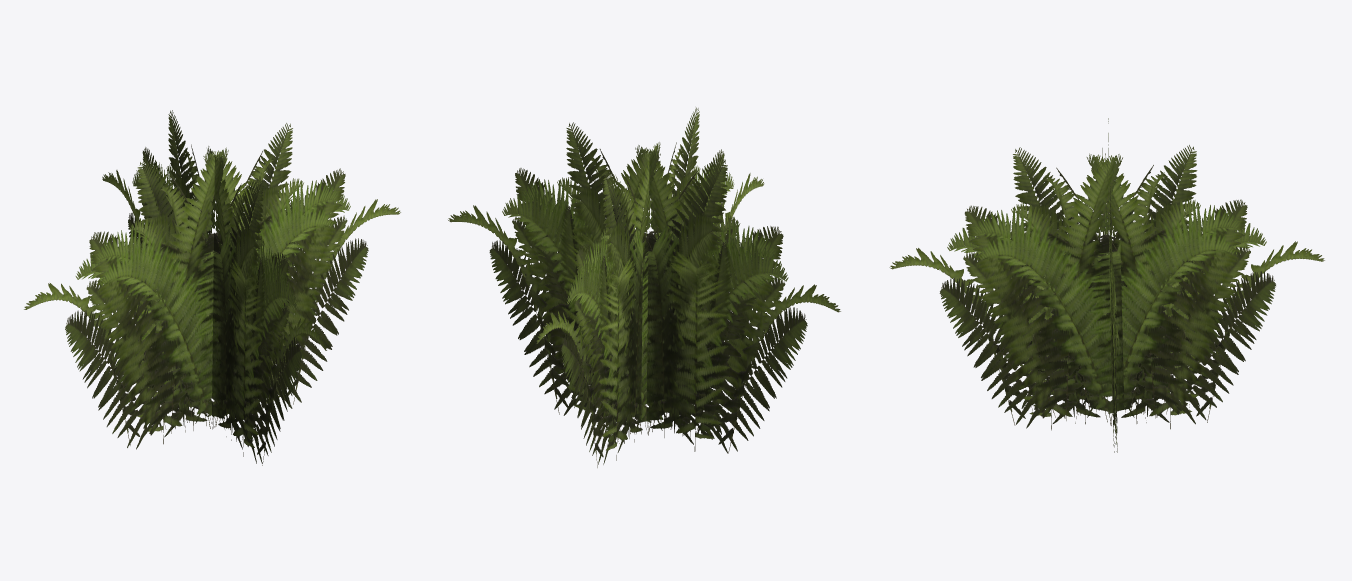
The model's file is 2D_Shrub.fbx.
The picture shows the model from 3 angles, left to right: view 1: azimuth 30°, elevation 25°; view 2: azimuth 150°, elevation 25°; view 3: azimuth 270°, elevation 25°; orthographic projection. The views are drawn at different scales.
Parts seen in each view (by area): view 1: pPlane8, pPlane5, pPlane7, pPlane6; view 2: pPlane5, pPlane8, pPlane6, pPlane7; view 3: pPlane6, pPlane7, pPlane8.
Part boxes in pixels (left/top/right/bottom): pPlane8: left=65, top=123, right=400, bottom=449; pPlane5: left=24, top=151, right=368, bottom=445; pPlane7: left=128, top=144, right=326, bottom=465; pPlane6: left=102, top=110, right=301, bottom=463; pPlane5: left=489, top=149, right=840, bottom=453; pPlane8: left=448, top=122, right=807, bottom=453; pPlane6: left=536, top=142, right=736, bottom=467; pPlane7: left=561, top=107, right=764, bottom=464; pPlane6: left=939, top=145, right=1324, bottom=429; pPlane7: left=889, top=147, right=1275, bottom=430; pPlane8: left=1102, top=148, right=1119, bottom=452.
Bounding box in the file's own units: 1.1 × 1.02 × 1.14.
Materials: 1 (1 with a texture image).
